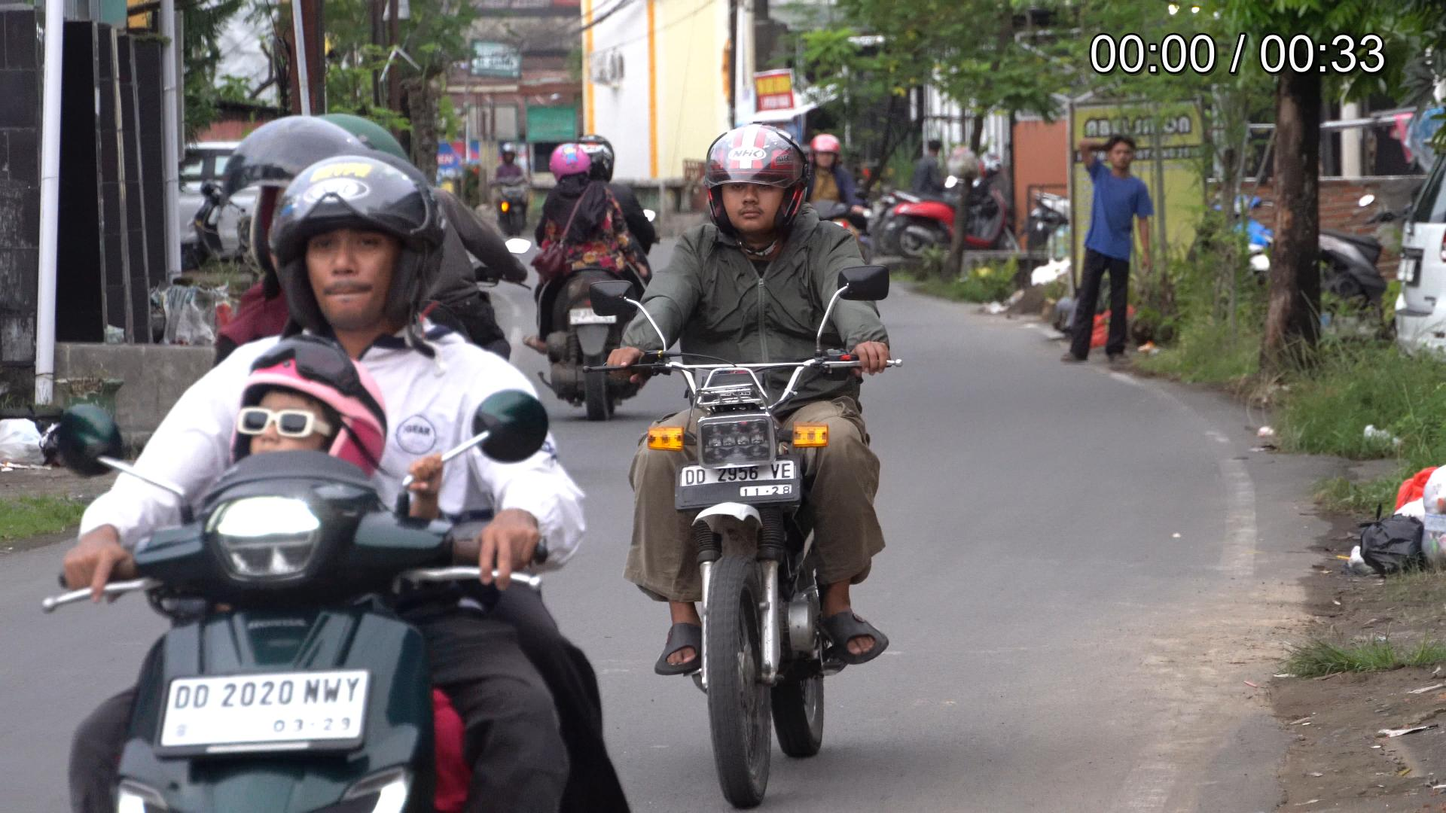number-plate: (149, 673, 374, 743), (672, 461, 801, 505)
